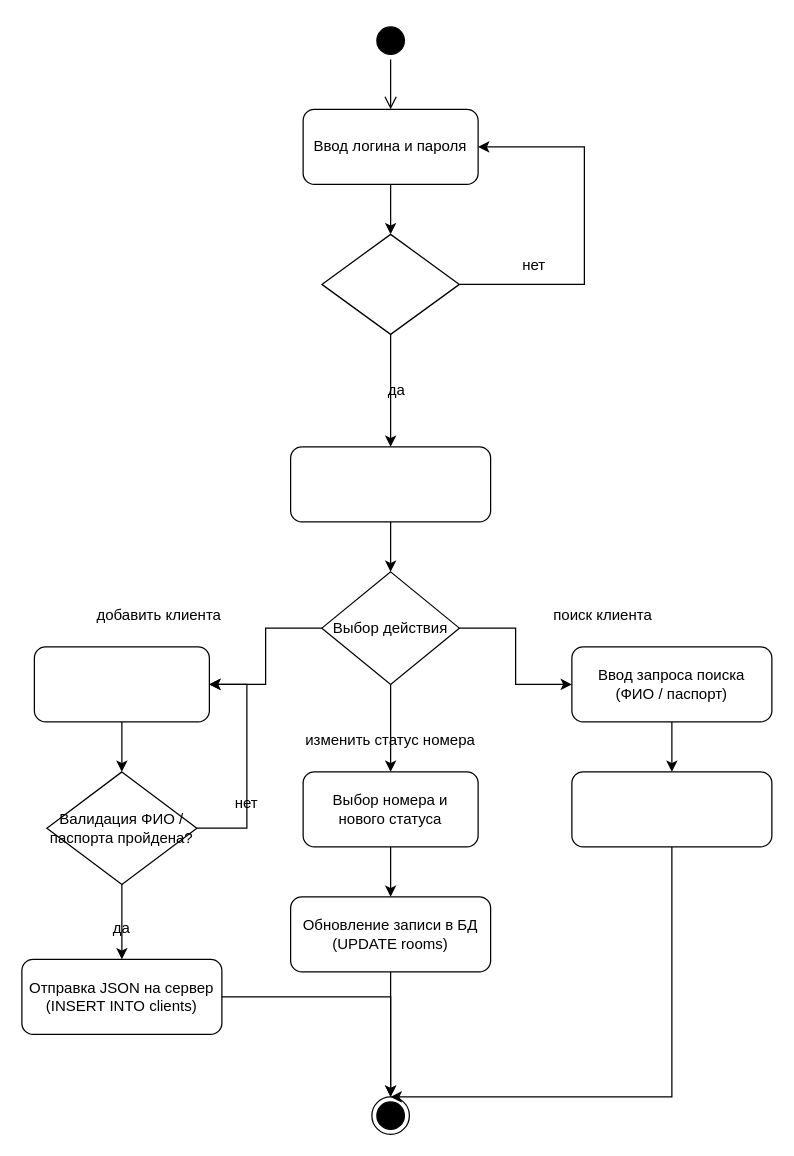
Image size: 794x1156. Some labels were removed from this diagram. Here are the shapes that lost their labels. From the top down, the box of each, then its label:
(321, 233, 459, 334): Данные верны?
(289, 446, 491, 522): Главный экран (номерной фонд)
(33, 646, 209, 722): Заполнение формы добавления клиента
(571, 771, 772, 847): Отображение результатов поиска
